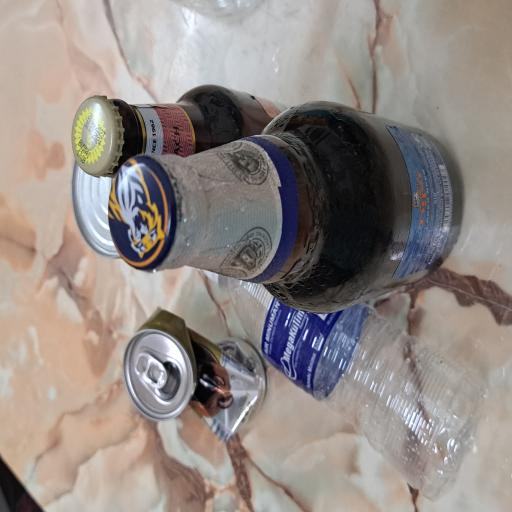can: (58, 166, 152, 354)
glass bottle: (153, 143, 308, 512), (250, 94, 321, 386)
plastic bottle: (6, 285, 176, 512)
pop tab: (92, 178, 120, 223)
